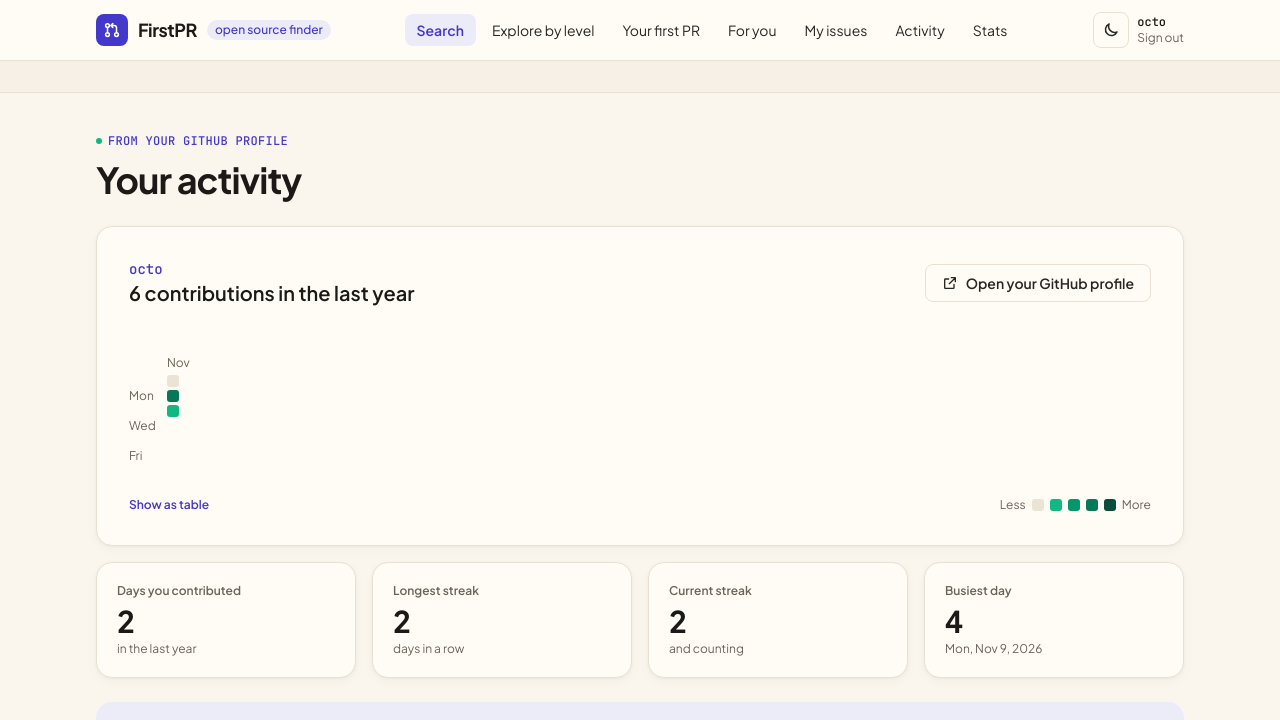
shows the year, the numbers from it, and a table of the same data
The image size is (1280, 720).
Expected: the heading "6 contributions in the last year" is shown, [129,279,414,307]
Click the button "Show as table": (169,505) [129,497,209,513]
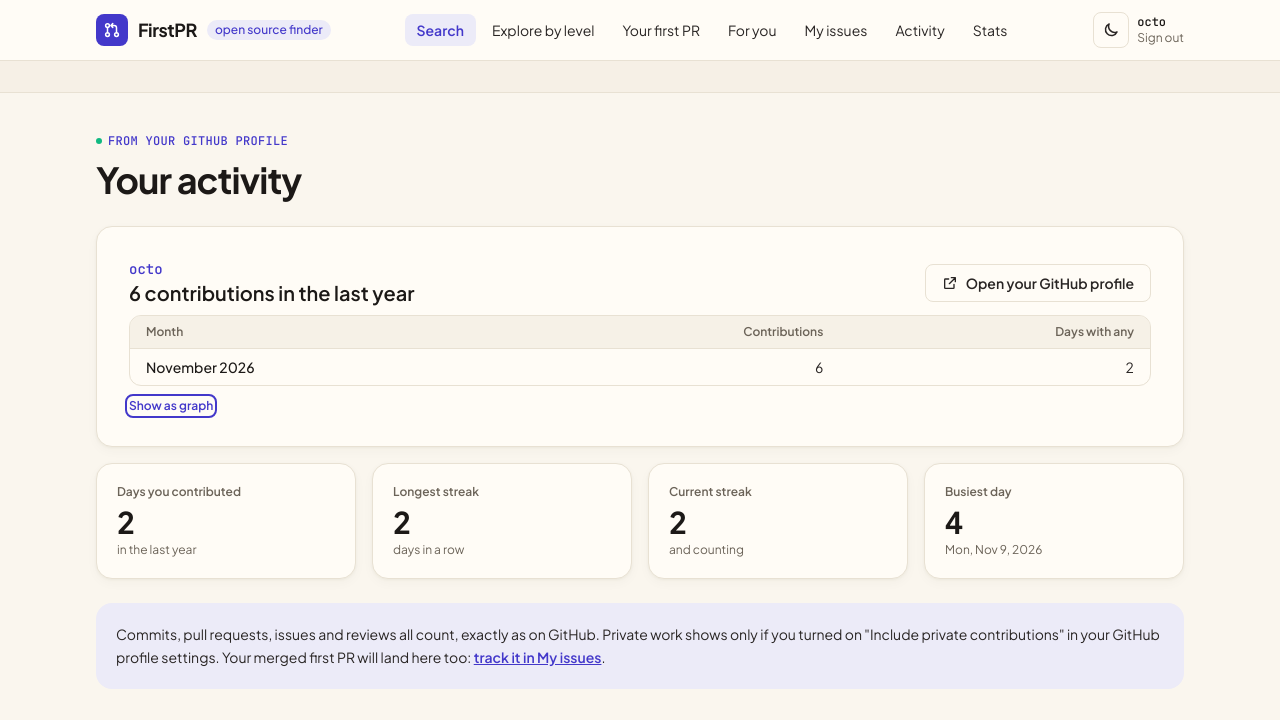
Now the row "November 2026 6 2" is shown, box [130,348,1150,385]
